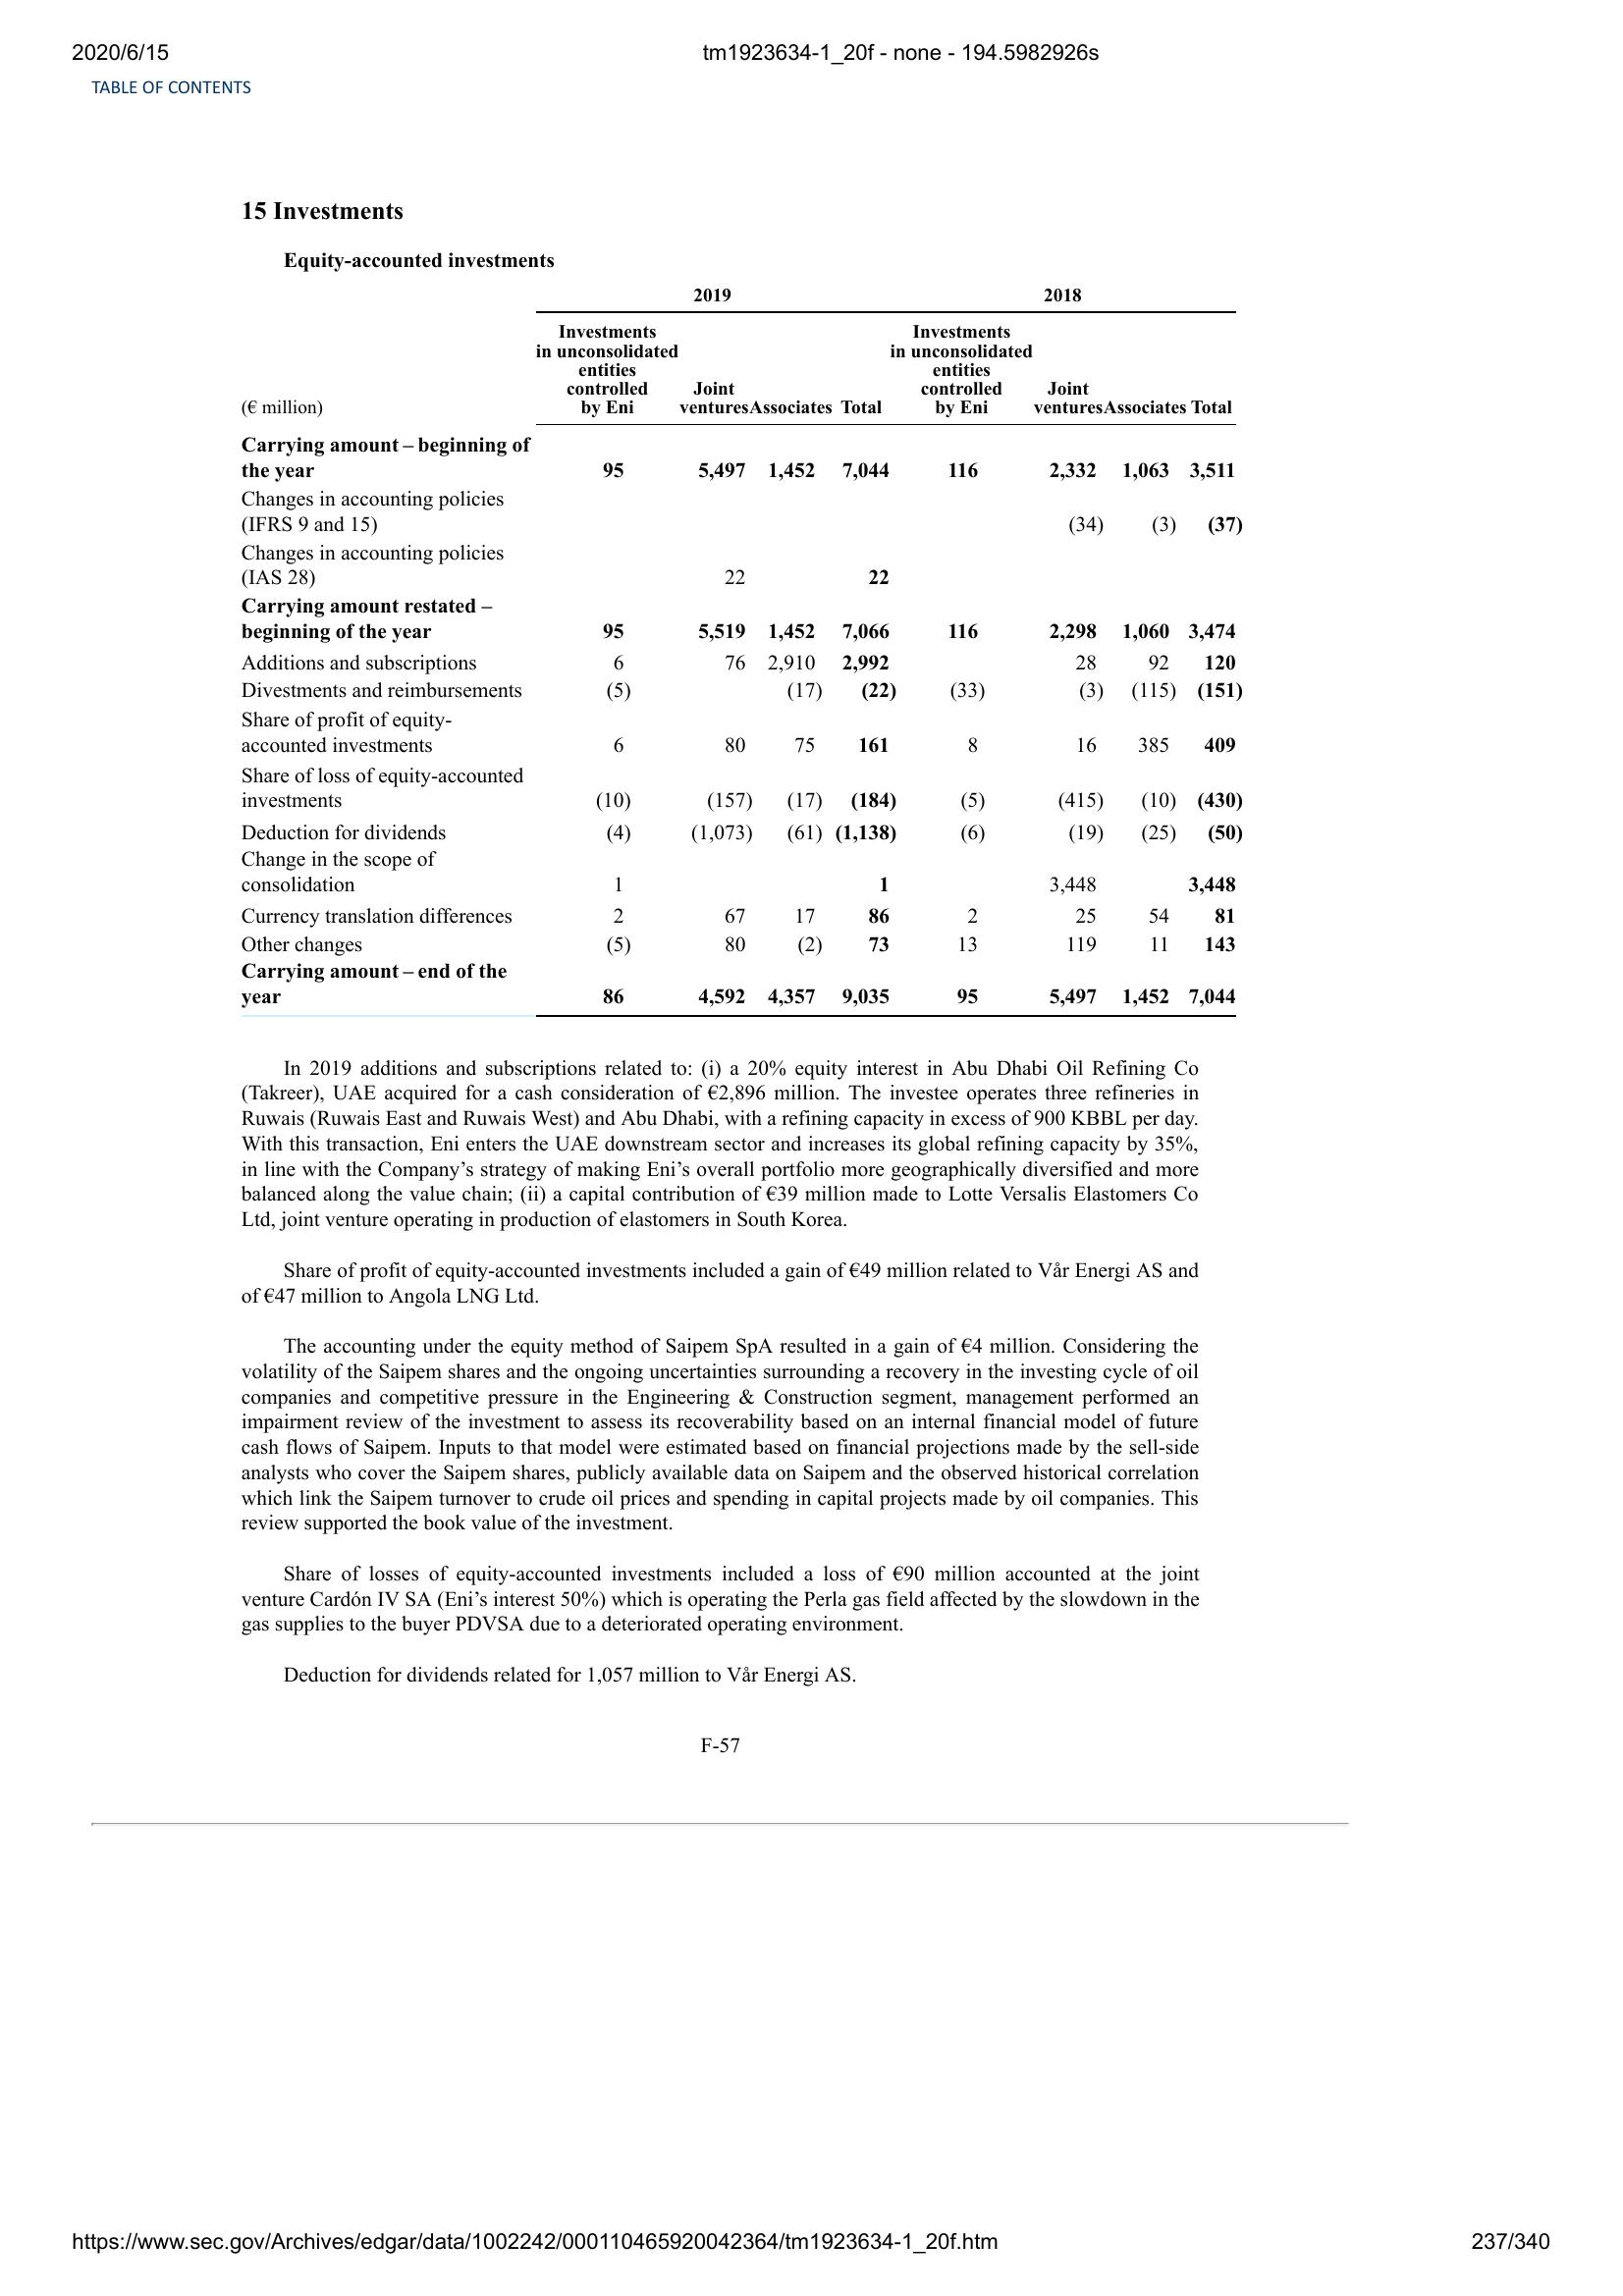table: (239, 283, 1249, 1025)
